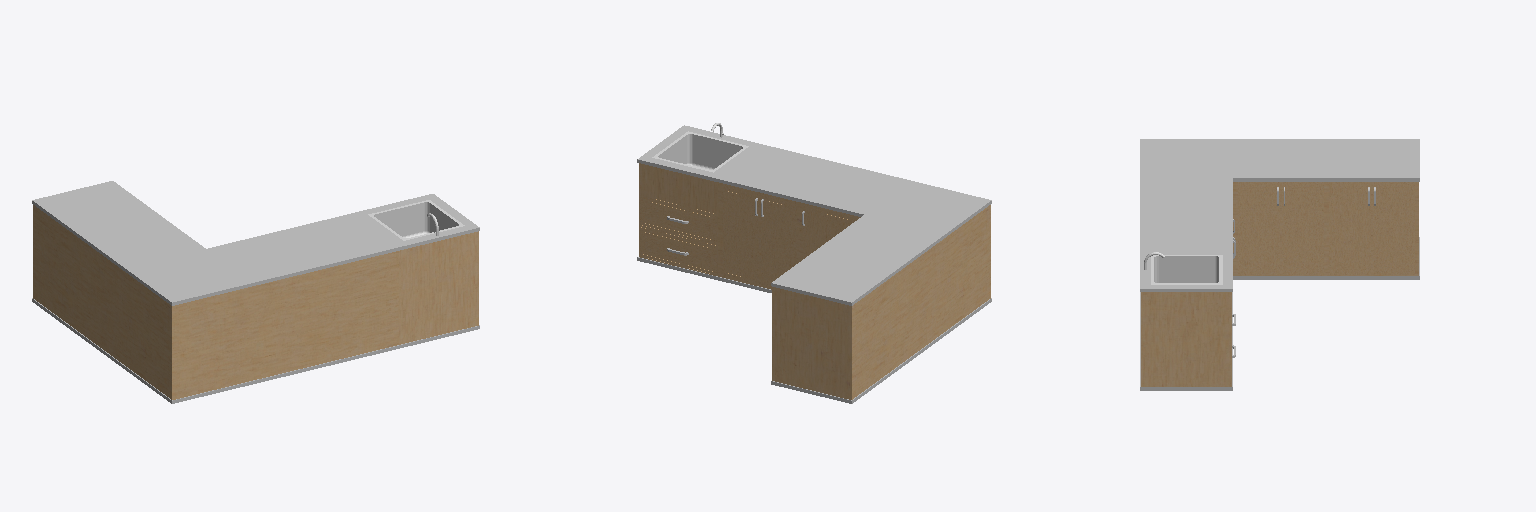
3 views of the same model, side by side, from view 1: azimuth 30°, elevation 25°; view 2: azimuth 150°, elevation 25°; view 3: azimuth 270°, elevation 25° (orthographic).
Visible parts, largest first — view 1: сorner_kitchen; view 2: сorner_kitchen, hatch_1_1, hatch_1_2, latch_1_1, latch_1, hatch_2; view 3: сorner_kitchen, hatch_4_2, hatch_4_1, hatch_3_2, hatch_3_1.
Boxes of the visible parts, <box> form: сorner_kitchen: <box>32,181,479,403</box>; сorner_kitchen: <box>637,123,991,403</box>; hatch_1_1: <box>723,184,758,285</box>; hatch_1_2: <box>761,193,796,288</box>; latch_1_1: <box>640,227,716,274</box>; latch_1: <box>640,196,716,243</box>; hatch_2: <box>802,204,858,258</box>; сorner_kitchen: <box>1140,139,1419,390</box>; hatch_4_2: <box>1373,182,1414,274</box>; hatch_4_1: <box>1329,182,1370,274</box>; hatch_3_2: <box>1282,182,1323,274</box>; hatch_3_1: <box>1238,182,1279,274</box>.
Size of the model in its own units: 3.81 by 1.41 by 3.
3 materials, 2 textured.